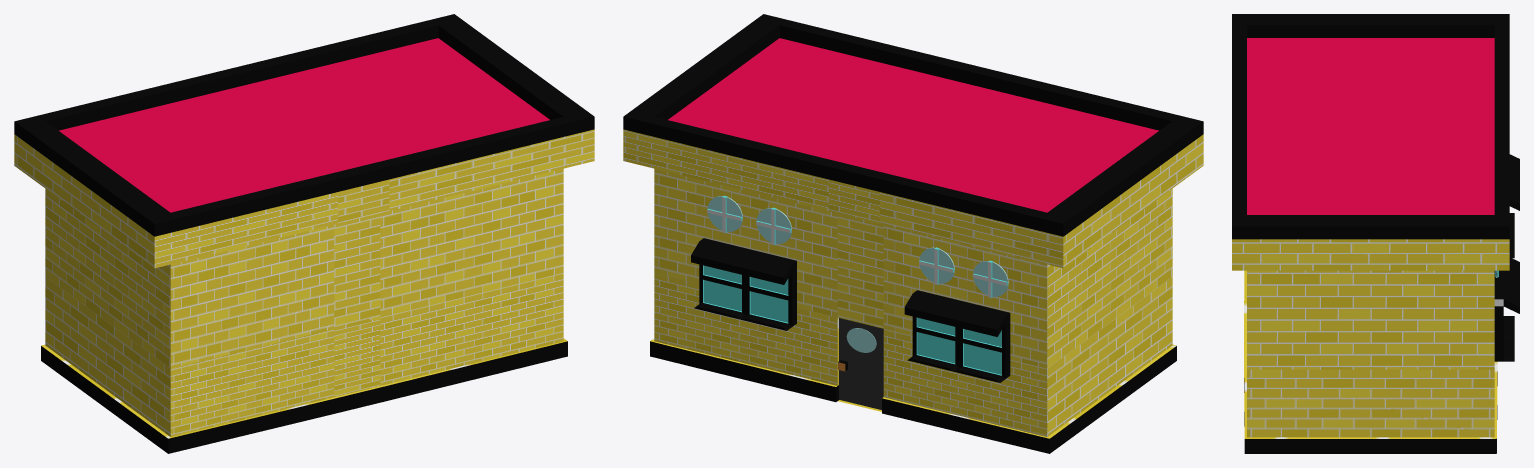
The model's file is lab.fbx.
3 renders of one model, left to right at view 1: azimuth 30°, elevation 25°; view 2: azimuth 150°, elevation 25°; view 3: azimuth 270°, elevation 25°, orthographic.
Parts seen in each view (by area): view 1: laboratorio; view 2: laboratorio; view 3: laboratorio.
Part boxes in pixels (x1,y1,x2,y2): laboratorio: (14,14,594,453); laboratorio: (623,14,1203,453); laboratorio: (1232,14,1519,453).
Bounding box in the file's own units: 1969 × 1025 × 1127.
18 materials, 1 textured.
